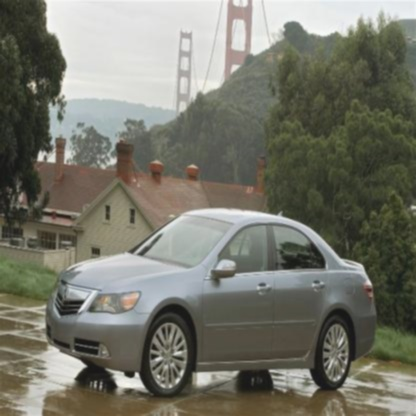Vehicle: (45, 207, 377, 399)
